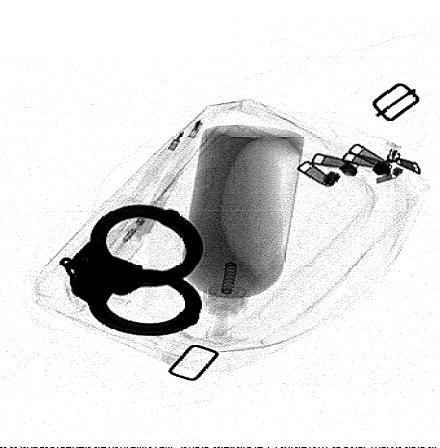HandCuffs: (60, 205, 204, 336)
